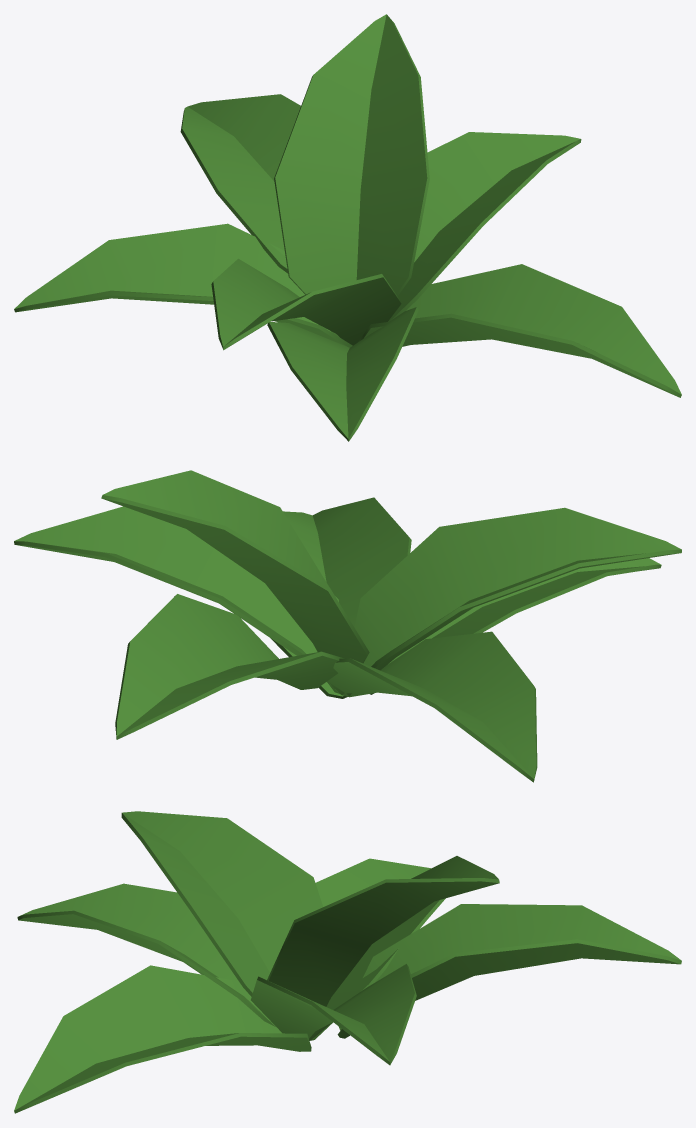
Rendered from Plant.fbx.
The picture shows the model from 3 angles, top to bottom: view 1: azimuth 30°, elevation 25°; view 2: azimuth 150°, elevation 25°; view 3: azimuth 270°, elevation 25°; orthographic projection. The views are drawn at different scales.
Visible parts, largest first — view 1: Plant; view 2: Plant; view 3: Plant.
Part boxes in pixels (x1,y1,x2,y2): Plant: (14,14,681,441); Plant: (14,470,681,782); Plant: (14,811,681,1113).
Bounding box in the file's own units: 1.33 × 0.5687 × 1.48.
